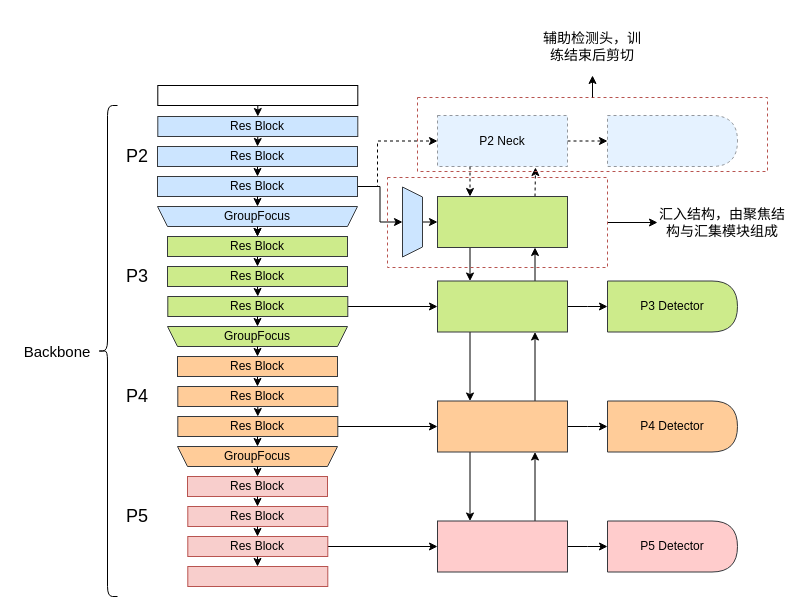
Image size: 804x614. Some labels were removed from this diagram. The shapes that lost their labels are listed below. From the top down, each one's centre as x and y in pixels, then its label:
At point 257,95: "输入网络".
At point 672,140: "P2 Detector".
At point 412,221: "FOCUS".
At point 502,222: "Convergence Kernel".
At point 502,306: "P3 Neck".
At point 502,426: "P4 Neck".
At point 502,546: "P5 Neck".
At point 257,576: "输出网络".
